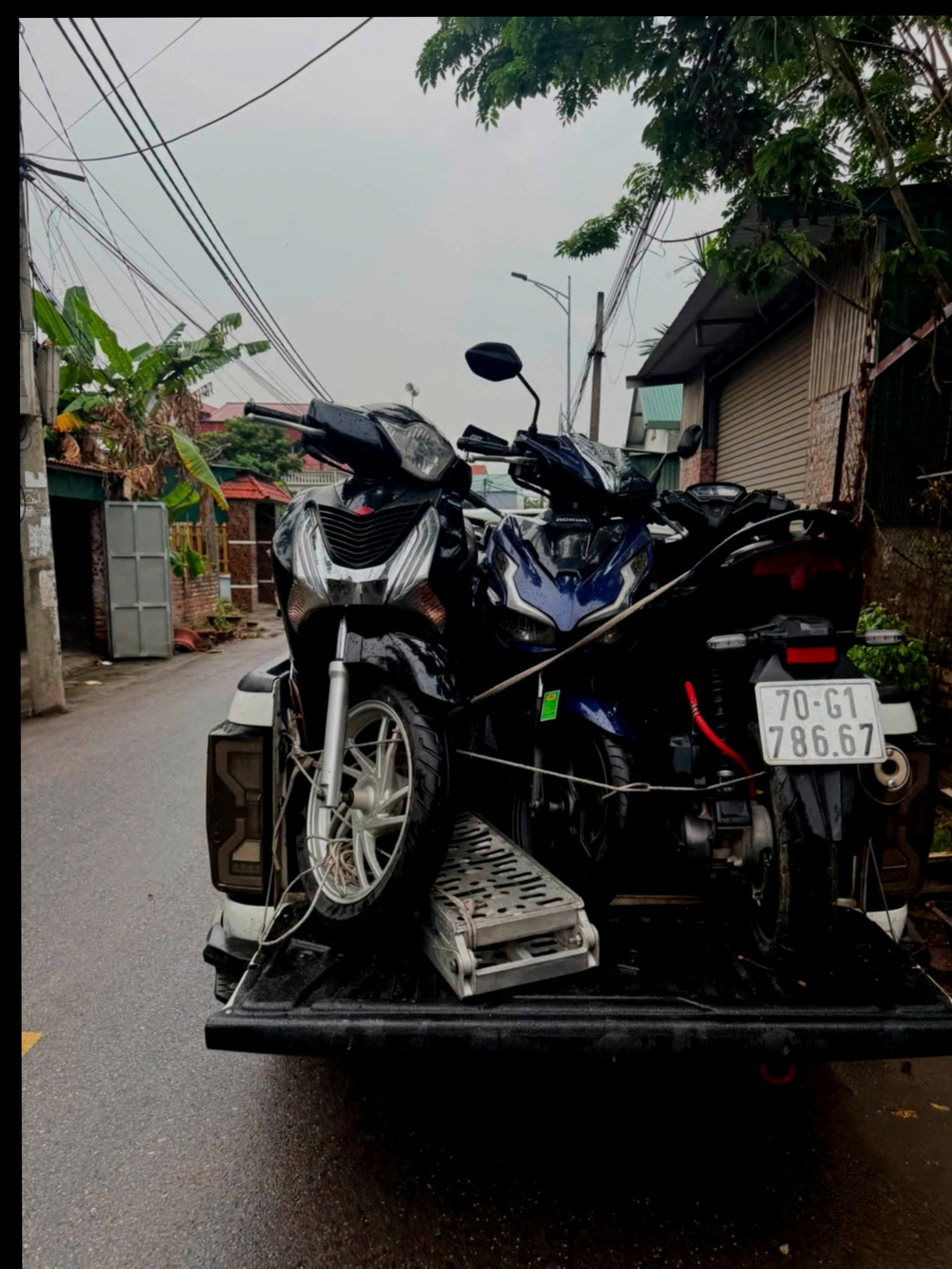Bien-so: (707, 635, 831, 725)
